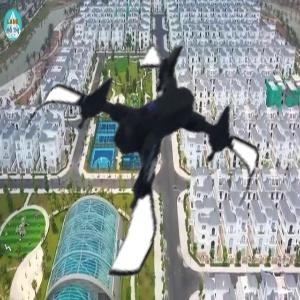drone: (18, 34, 265, 281)
